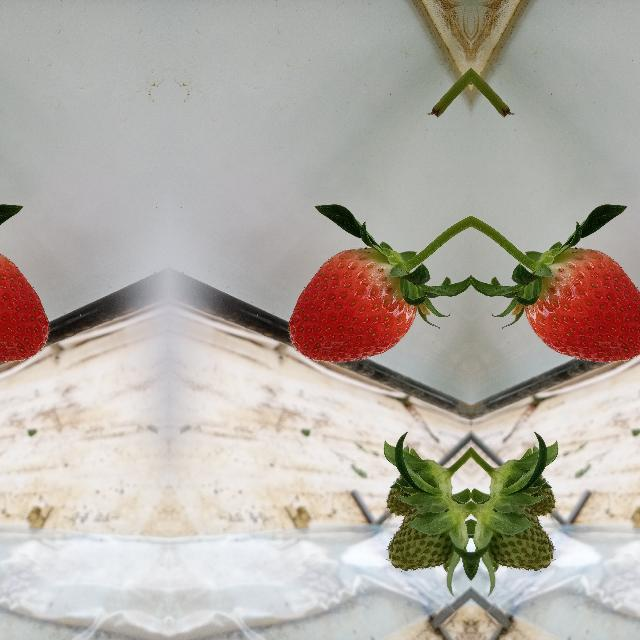Health_100: (286, 247, 418, 363), (523, 247, 640, 363), (0, 247, 50, 363)
Health_25: (385, 502, 461, 580), (480, 502, 556, 580), (494, 444, 558, 518), (384, 444, 446, 518)
